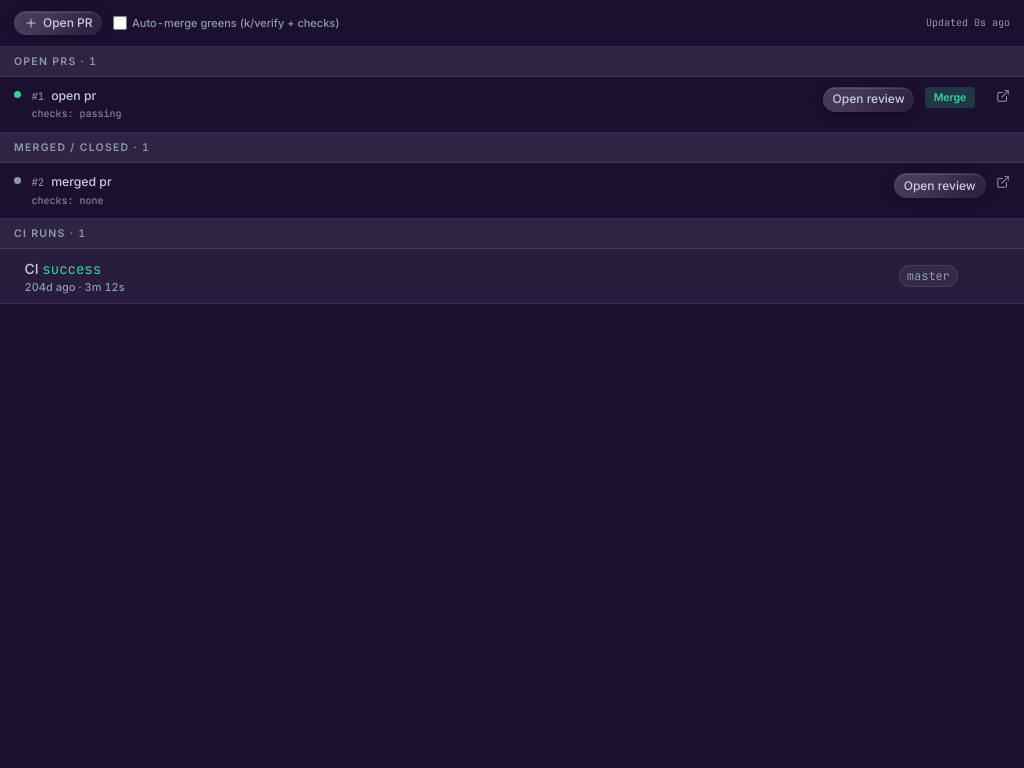
Test: PrsCiTab — F-047 default base branch › pre-fills the PR base with the repo default branch inferred from CI (master)
Click the button with test id "prs-open-pr" at (58, 23), box [14, 10, 102, 35]
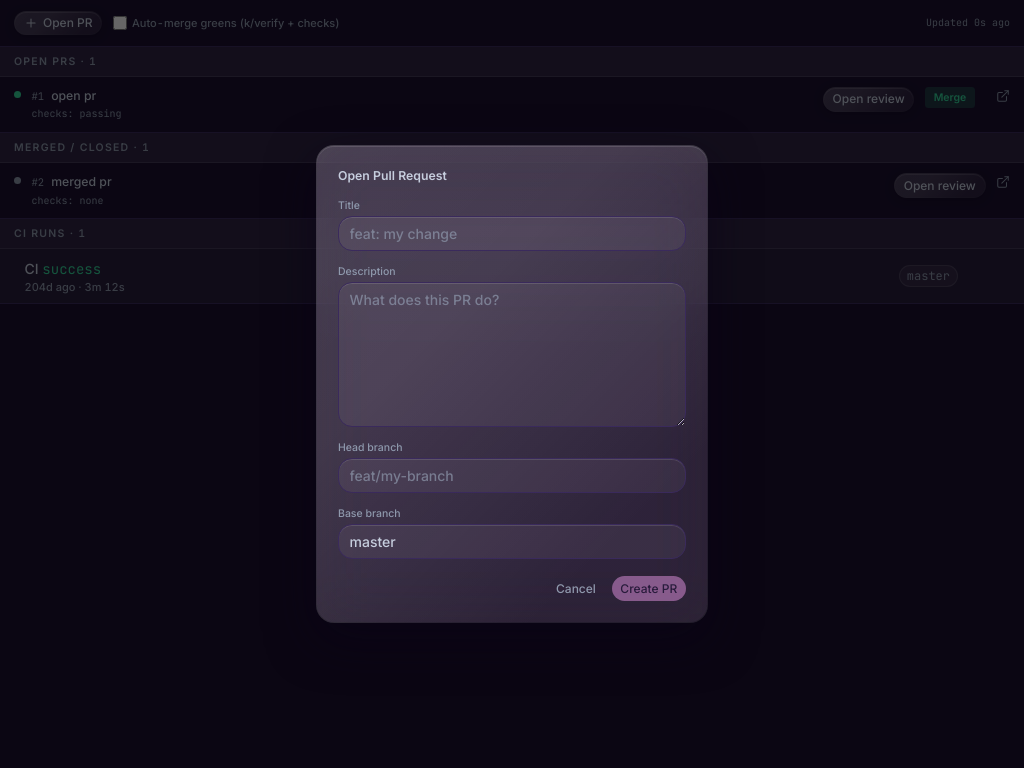
Expected: the field with placeholder "main" holds "master", [338, 524, 686, 559]
